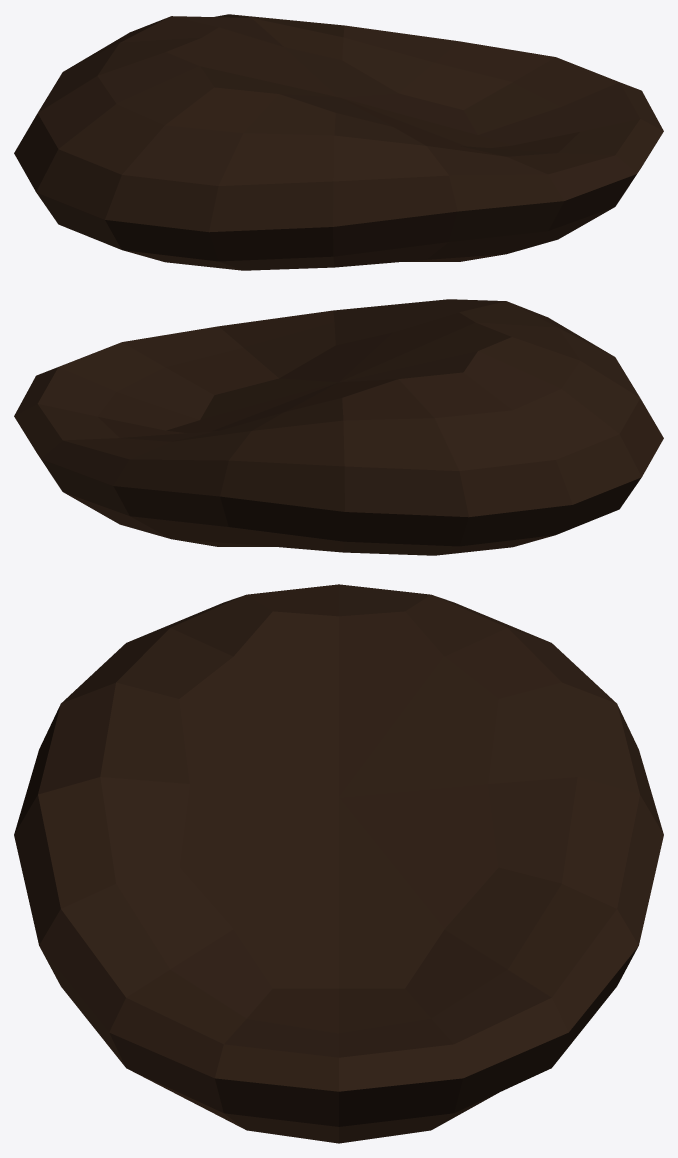
Rendered from CoffeeDrop.fbx.
The picture shows the model from 3 angles, top to bottom: view 1: azimuth 30°, elevation 25°; view 2: azimuth 150°, elevation 25°; view 3: azimuth 270°, elevation 25°; orthographic projection. The views are drawn at different scales.
Visible parts, largest first — view 1: Sphere; view 2: Sphere; view 3: Sphere.
Boxes of the visible parts, box(x1,y1,x2,y2) form: Sphere: box(14, 14, 663, 270); Sphere: box(14, 299, 663, 555); Sphere: box(14, 584, 663, 1143).
Bounding box in the file's own units: 10.5 × 3.83 × 7.15.
